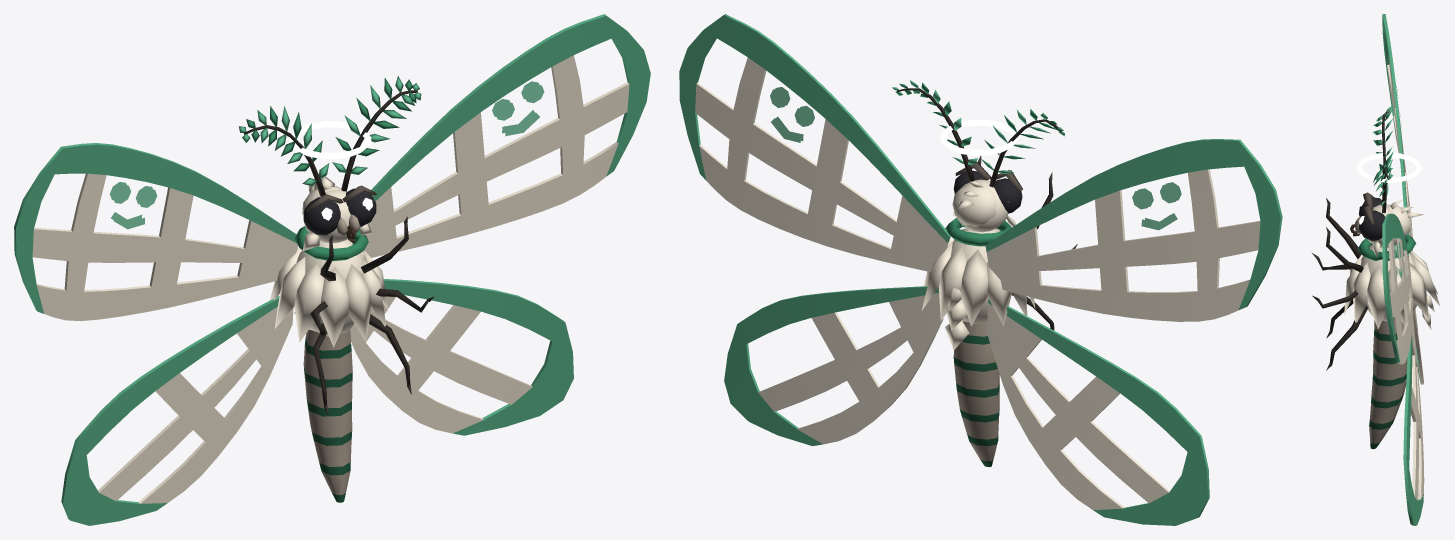
Rendered from moth-psyche.glb.
3 renders of one model, left to right at view 1: azimuth 30°, elevation 25°; view 2: azimuth 150°, elevation 25°; view 3: azimuth 270°, elevation 25°, orthographic. The views are drawn at different scales.
Visible parts, largest first — view 1: glide_wing_1, glide_wing_0, body, pulse_abdomen, sway_feeler_l, sway_feeler_r, turn_head, blink_eye_r, bob_halo, blink_eye_l; view 2: glide_wing_1, glide_wing_0, body, pulse_abdomen, turn_head, sway_feeler_l, sway_feeler_r, bob_halo; view 3: glide_wing_0, body, pulse_abdomen, glide_wing_1, turn_head, bob_halo, blink_eye_l, sway_feeler_r, sway_feeler_l.
Part boxes in pixels (x1,y1,x2,y2): glide_wing_1: [14, 143, 298, 525]; glide_wing_0: [350, 14, 650, 435]; body: [270, 216, 434, 415]; pulse_abdomen: [303, 329, 352, 502]; sway_feeler_l: [332, 76, 421, 191]; sway_feeler_r: [238, 106, 329, 196]; turn_head: [302, 176, 376, 250]; blink_eye_r: [303, 197, 340, 235]; bob_halo: [289, 121, 371, 159]; blink_eye_l: [345, 188, 376, 226]; glide_wing_1: [985, 139, 1282, 525]; glide_wing_0: [679, 14, 950, 446]; body: [922, 156, 1077, 350]; pulse_abdomen: [953, 321, 999, 467]; turn_head: [952, 162, 1022, 232]; sway_feeler_l: [892, 80, 977, 181]; sway_feeler_r: [981, 109, 1064, 187]; bob_halo: [940, 119, 1017, 155]; glide_wing_0: [1382, 213, 1424, 525]; body: [1311, 198, 1440, 370]; pulse_abdomen: [1369, 320, 1407, 449]; glide_wing_1: [1382, 14, 1423, 384]; turn_head: [1350, 192, 1423, 257]; bob_halo: [1356, 152, 1421, 182]; blink_eye_l: [1359, 210, 1385, 241]; sway_feeler_r: [1373, 105, 1393, 201]; sway_feeler_l: [1373, 151, 1393, 213].
Bounding box in the file's own units: 1.34 × 0.8408 × 0.299.
